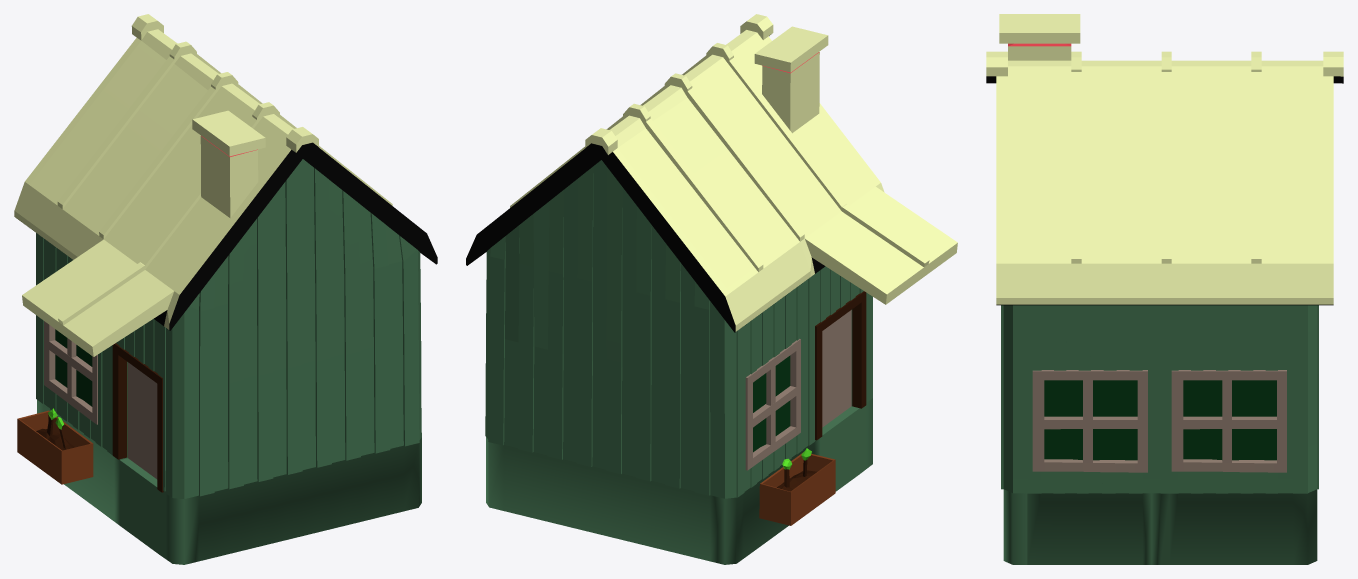
File: mokki3.fbx
3 renders of one model, left to right at view 1: azimuth 30°, elevation 25°; view 2: azimuth 150°, elevation 25°; view 3: azimuth 270°, elevation 25°, orthographic. The views are drawn at different scales.
Parts seen in each view (by area): view 1: base, roof, tree pot, doorframe, front windowframe; view 2: base, roof, tree pot, front windowframe, doorframe; view 3: roof, base, back windowframe.
Boxes of the visible parts, x1,y1,x2,y2 form: base: (36,159,421,564); roof: (14,14,437,356); tree pot: (17,408,93,484); doorframe: (112,343,163,492); front windowframe: (44,321,97,424); base: (485,160,872,564); roof: (466,14,957,332); tree pot: (759,448,835,525); front windowframe: (745,339,800,470); doorframe: (815,291,866,440); roof: (986,14,1343,305); base: (1001,305,1318,564); back windowframe: (1032,370,1286,472).
Size of what is drawn, in the model's own units: 4235 by 4872 by 3536.
